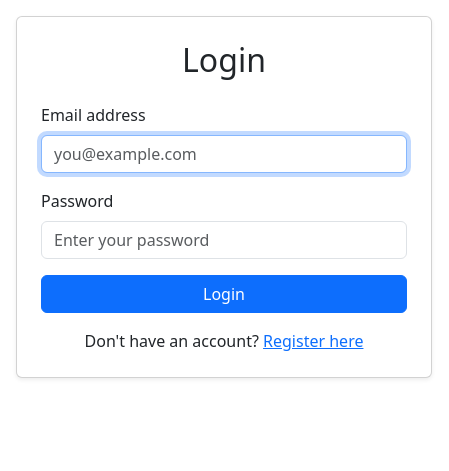
Scenario: LoginPage › displays server error from context
// Use a valid password (at least 6 characters) to pass validation
Type "a@b.com" into the field labelled "Email address" at [224, 154], box [41,135,407,173]
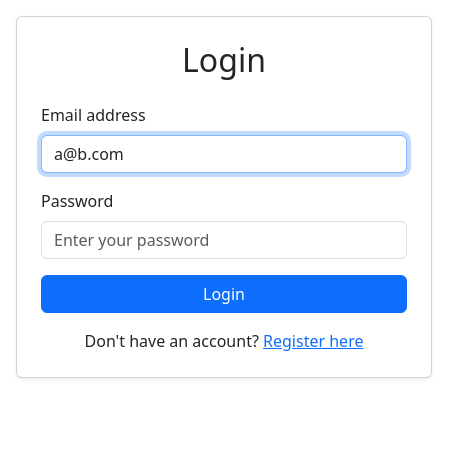
Type "validpassword" into the password field labelled "Password" at [224, 240], box [41,221,407,259]
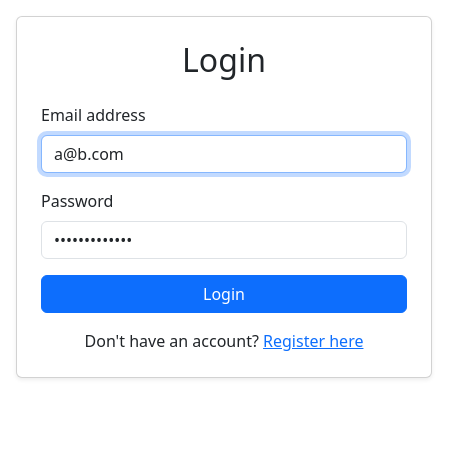
Click the button "Login" at [224, 294], box [41,275,407,313]
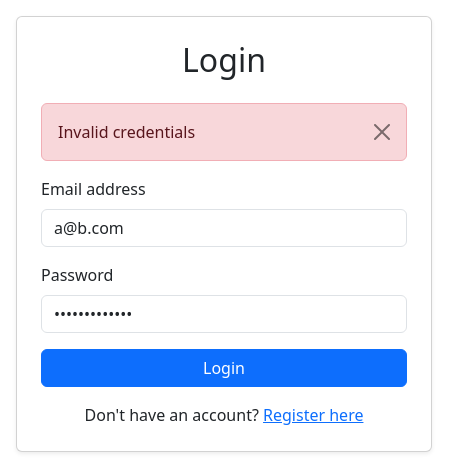
expect the text "Invalid credentials" is shown: met, box [41,103,407,161]
